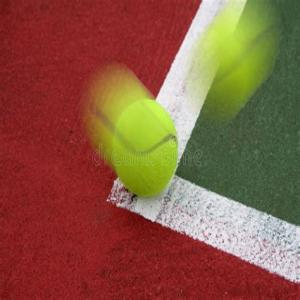Tennis: (110, 95, 180, 197)
